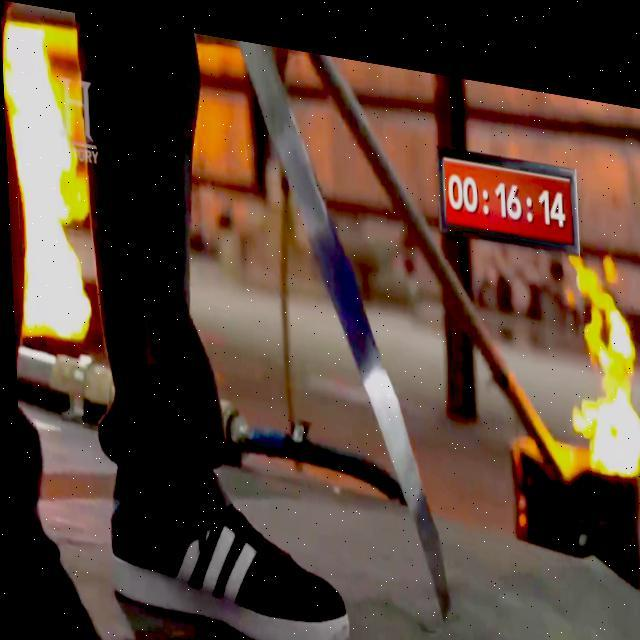Fire: (4, 19, 95, 352), (563, 234, 639, 467)
